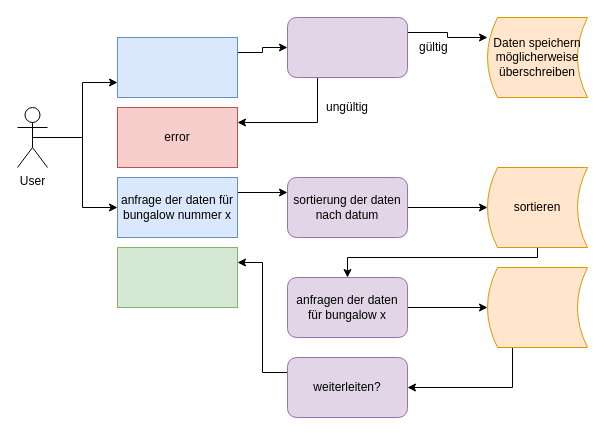
Some shapes in this 605 by 435 pixel diagram are drawn without their labels. Here are the shapes that lost their labels. From the top down, the centre of each, then its label:
At (177,67): "klickt neue reservierung".
At (347,47): "überprüfen der daten gültigkeit (macht der input sinn, vollständig)".
At (177,277): "ausgabe der daten".
At (537,307): "einträge für bungalow x zurückgeben".
